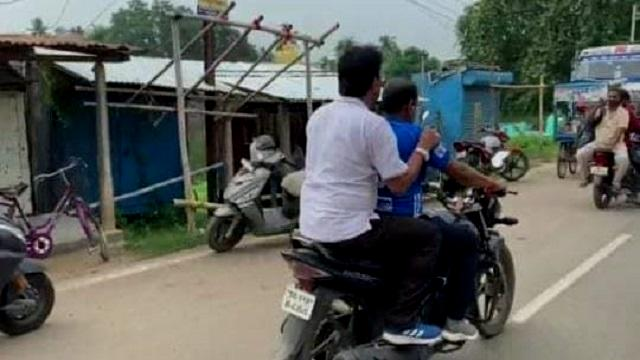licensePlate: (282, 284, 323, 323)
motorcycle: (264, 40, 522, 360)
withoutHelmet: (335, 44, 387, 105), (389, 79, 427, 126)
